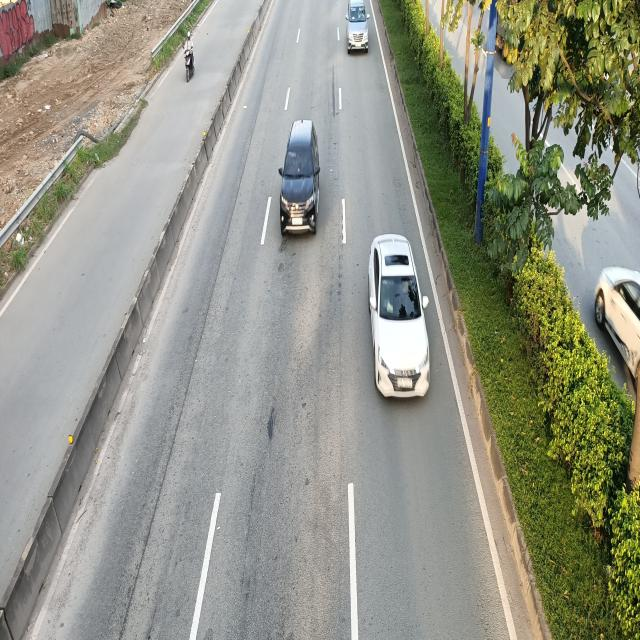car: (369, 232, 433, 399), (277, 123, 319, 239), (346, 0, 370, 52)
